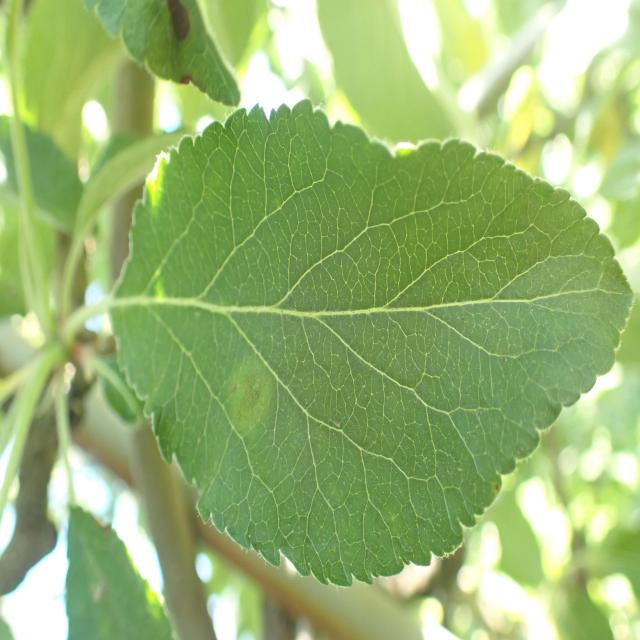scab: (136, 216, 346, 548)
